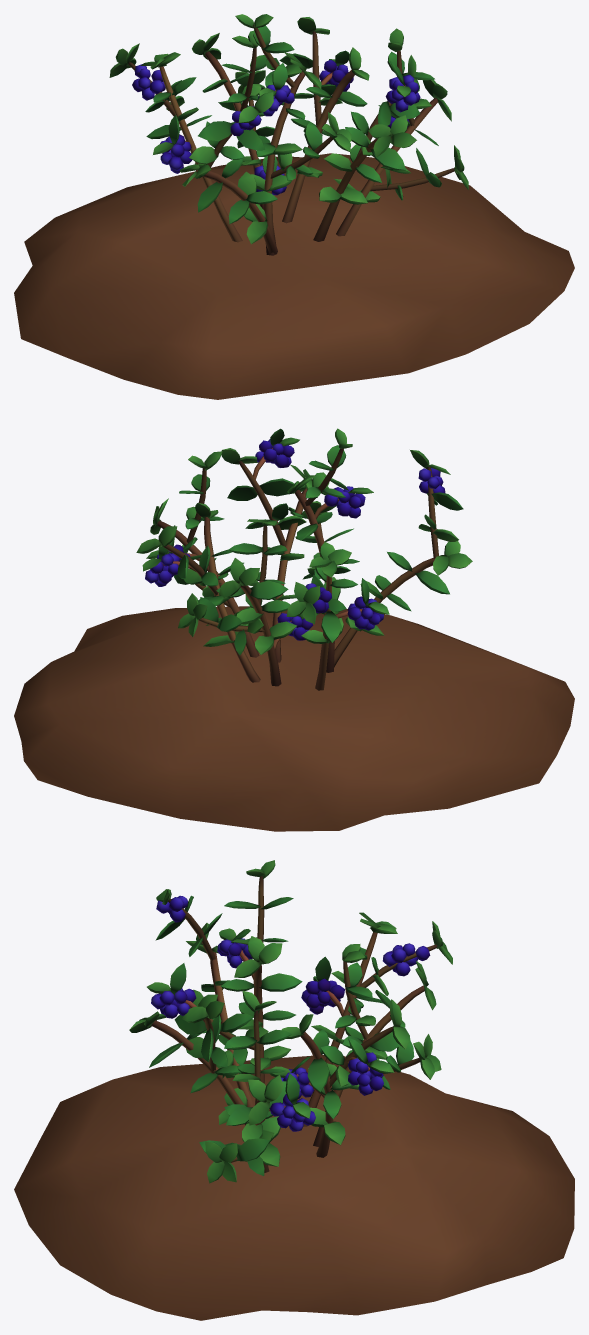
Rendered from SM_PlantSoil_Blueberry_Lv3.fbx.
3 renders of one model, top to bottom at view 1: azimuth 30°, elevation 25°; view 2: azimuth 150°, elevation 25°; view 3: azimuth 270°, elevation 25°, orthographic. The views are drawn at different scales.
Visible parts, largest first — view 1: SM_PlantSoil_Blueberry_Lv3; view 2: SM_PlantSoil_Blueberry_Lv3; view 3: SM_PlantSoil_Blueberry_Lv3.
Boxes of the visible parts, bbox=[...] form: SM_PlantSoil_Blueberry_Lv3: bbox=[14, 14, 574, 399]; SM_PlantSoil_Blueberry_Lv3: bbox=[14, 428, 574, 831]; SM_PlantSoil_Blueberry_Lv3: bbox=[14, 860, 574, 1320].
Size of the model in its own units: 118 by 64.22 by 106.
